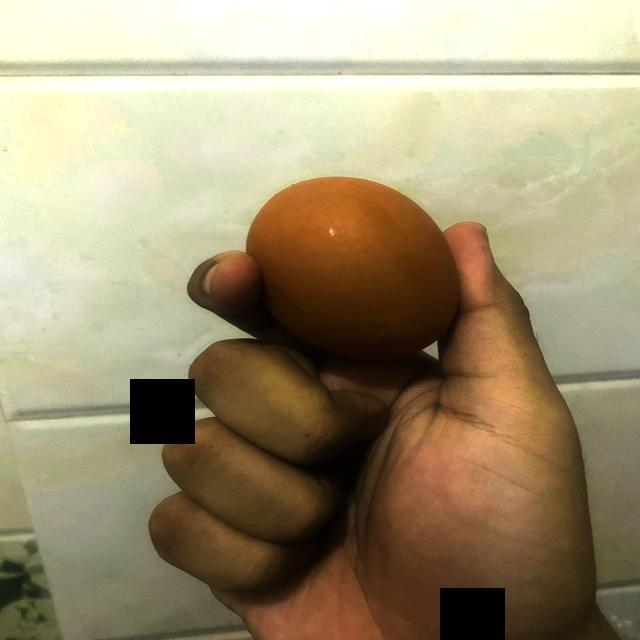egg: (243, 176, 465, 364)
